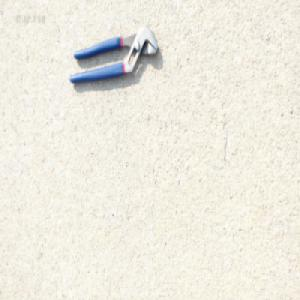Pliers: (69, 24, 159, 85)
